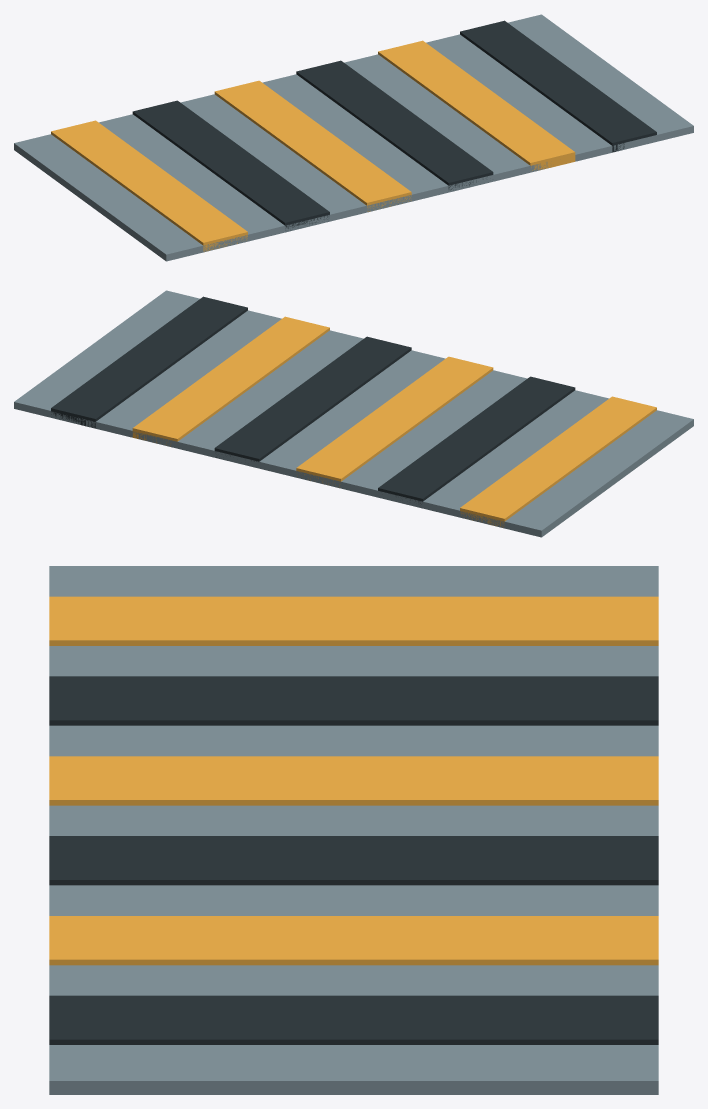
The model's file is Road_SpeedTable_4m.glb.
3 renders of one model, top to bottom at view 1: azimuth 30°, elevation 25°; view 2: azimuth 150°, elevation 25°; view 3: azimuth 270°, elevation 25°, orthographic. The views are drawn at different scales.
Visible parts, largest first — view 1: Road_SpeedTable_4m_WarningBars, Road_SpeedTable_4m_Ramp; view 2: Road_SpeedTable_4m_WarningBars, Road_SpeedTable_4m_Ramp; view 3: Road_SpeedTable_4m_WarningBars, Road_SpeedTable_4m_Ramp.
Boxes of the visible parts, box(x1,y1,x2,y2) form: Road_SpeedTable_4m_WarningBars: box(51, 20, 656, 251); Road_SpeedTable_4m_Ramp: box(14, 14, 693, 261); Road_SpeedTable_4m_WarningBars: box(51, 296, 656, 527); Road_SpeedTable_4m_Ramp: box(14, 290, 693, 537); Road_SpeedTable_4m_WarningBars: box(49, 596, 658, 1044); Road_SpeedTable_4m_Ramp: box(49, 566, 658, 1094).
Bounding box in the file's own units: 4 × 0.07 × 2.
